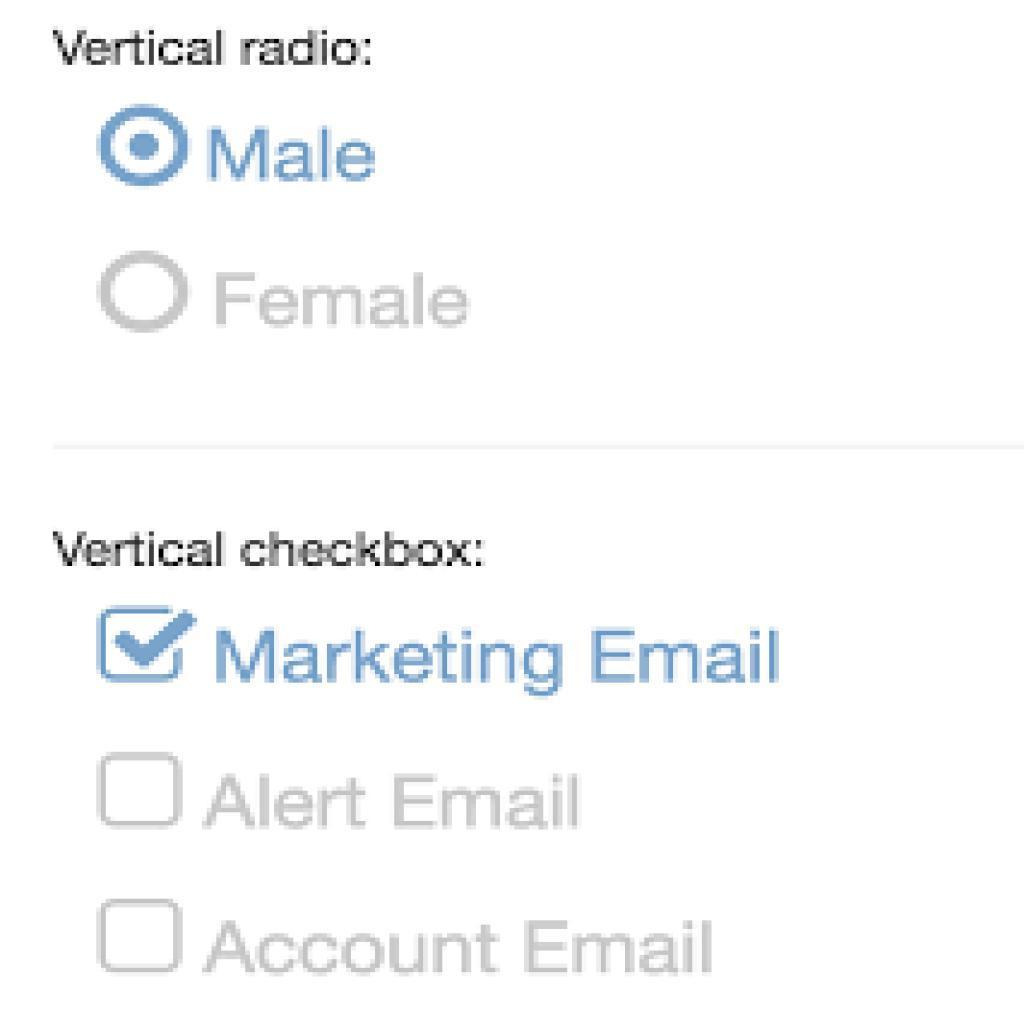checkbox: (87, 591, 200, 696), (84, 886, 190, 988), (87, 743, 193, 837)
radio: (87, 237, 198, 340), (95, 99, 198, 203)
